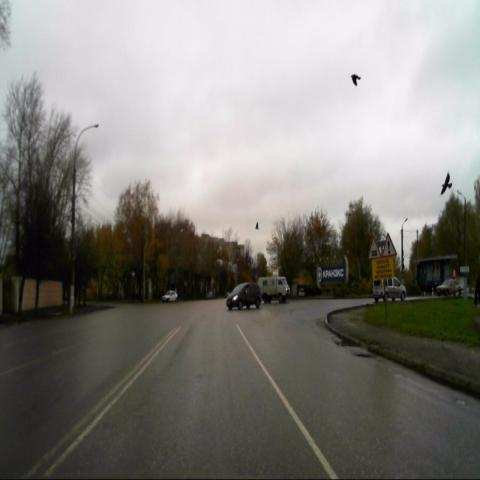1_33: (382, 233, 397, 258)
